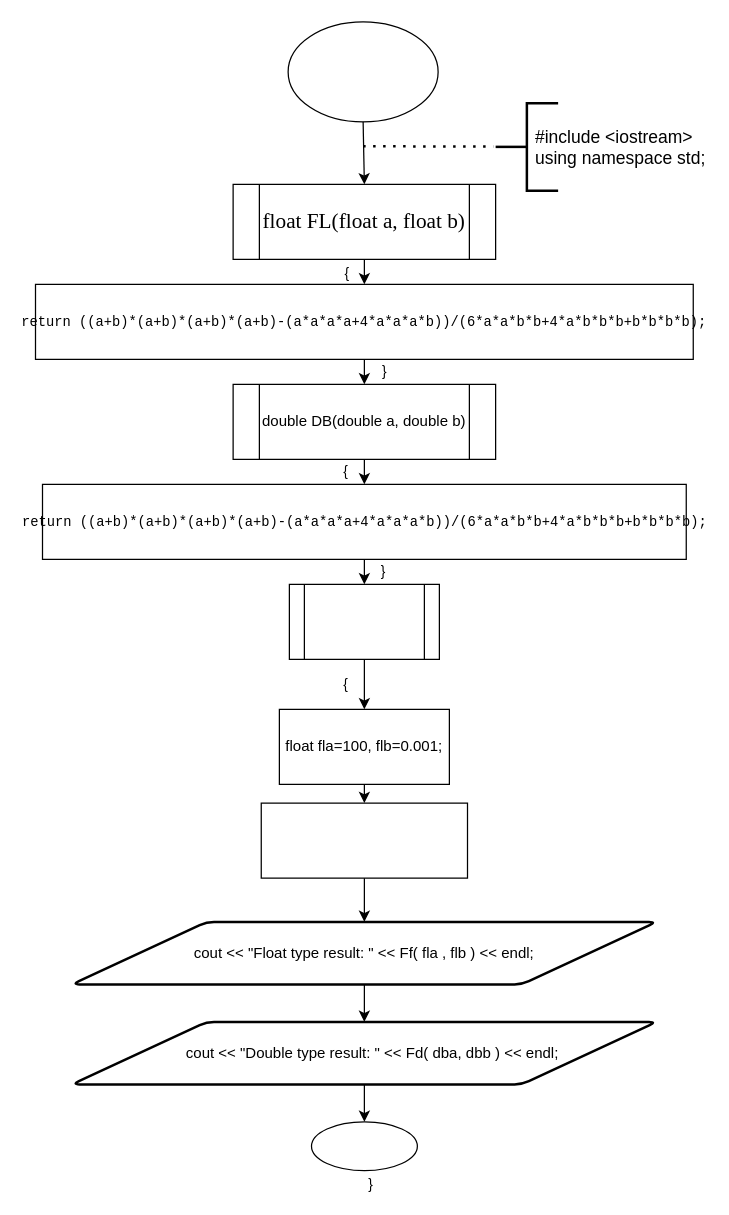
The diagram is 729 pixels wide and 1215 high, and some of its shapes have lost their labels. Each missing label, with the centre of its shape:
double dba=100, dbb=0.001;: [364,840]
int main(): [363,621]
return 0;: [363,1146]
Начало: [362,71]
